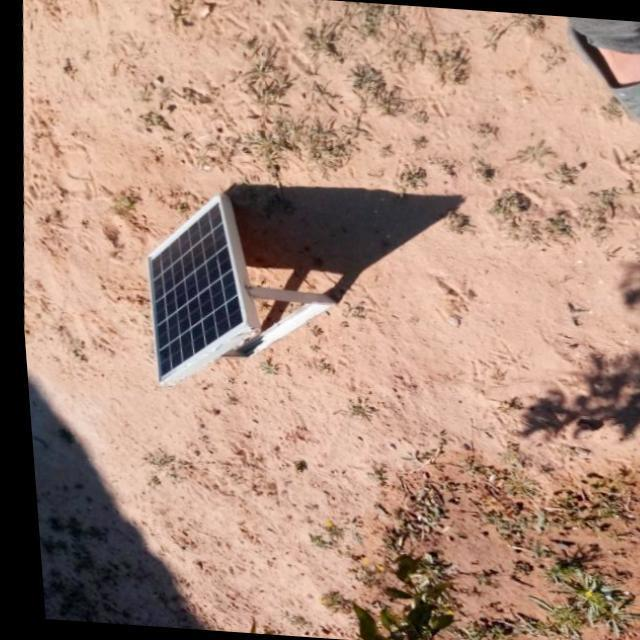Normal Solar Panel: (129, 189, 256, 392)
